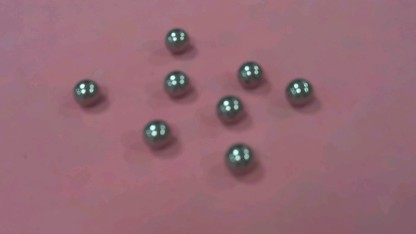ironball: (217, 135, 262, 174), (66, 71, 106, 110), (213, 91, 255, 121), (231, 53, 264, 90), (282, 72, 319, 104), (136, 117, 170, 150), (160, 22, 191, 52), (160, 67, 187, 95)
